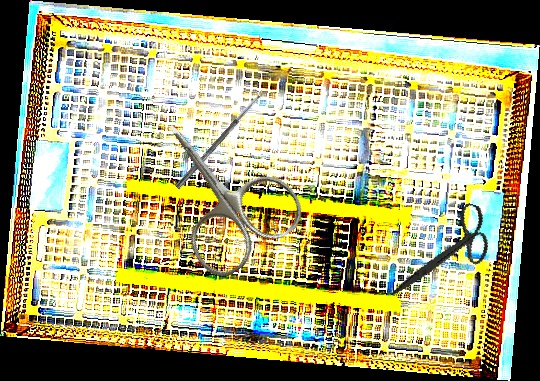Iris Scissors: (124, 90, 312, 286), (389, 188, 501, 320)
Surgical Spoon: (175, 90, 266, 190)
